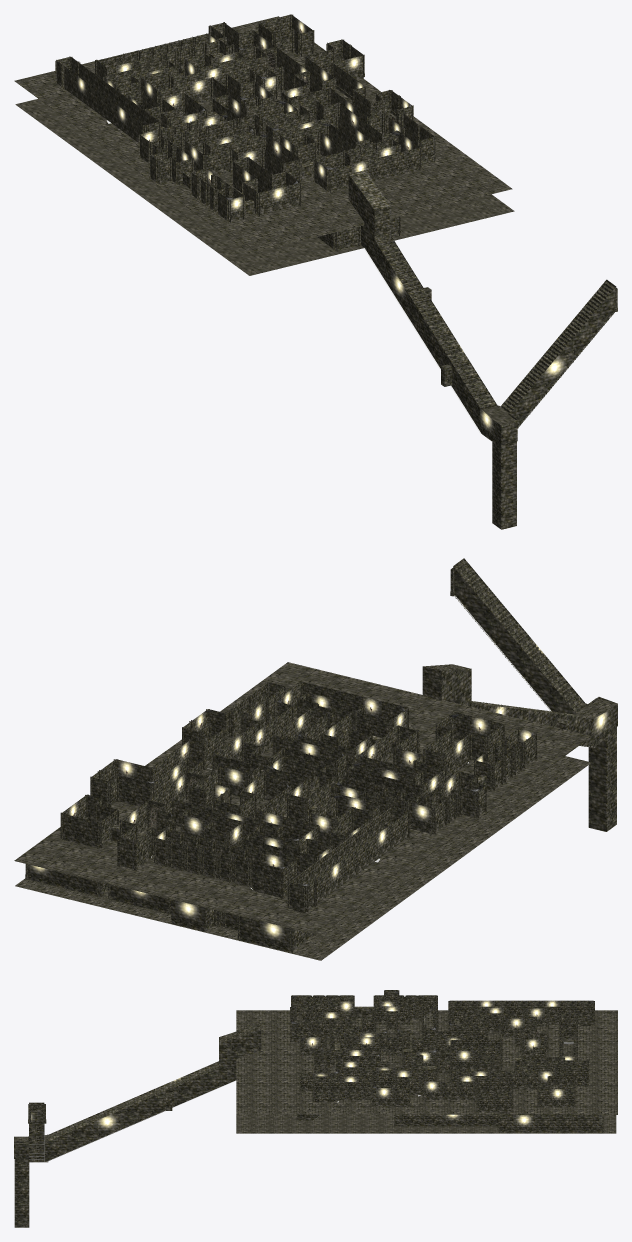
File: FI_002_zennkiseisaku_meiro2_01_46.fbx
The picture shows the model from 3 angles, top to bottom: view 1: azimuth 30°, elevation 25°; view 2: azimuth 150°, elevation 25°; view 3: azimuth 270°, elevation 25°; orthographic projection. The views are drawn at different scales.
Visible parts, largest first — view 1: kabe_2kai, tenjou_1kai, kabe_1kai, yuka_1kai, hasira, tenjou_kaidann, tenjou_kaidann2; view 2: kabe_2kai, tenjou_1kai, kabe_1kai, hasira, yuka_1kai, tenjou_kaidann2, saku; view 3: kabe_2kai, tenjou_1kai, kabe_1kai, yuka_1kai, hasira, tenjou_kaidann, kaidann.
Part boxes in pixels (<box>): kabe_2kai: <box>56,14,434,221</box>; tenjou_1kai: <box>14,16,512,253</box>; kabe_1kai: <box>233,119,616,529</box>; yuka_1kai: <box>15,98,514,275</box>; hasira: <box>55,14,435,250</box>; tenjou_kaidann: <box>375,236,496,409</box>; tenjou_kaidann2: <box>501,282,614,412</box>; kabe_2kai: <box>61,682,535,911</box>; tenjou_1kai: <box>14,662,591,935</box>; kabe_1kai: <box>27,558,617,952</box>; hasira: <box>25,681,537,952</box>; yuka_1kai: <box>15,756,591,960</box>; tenjou_kaidann2: <box>455,561,585,712</box>; saku: <box>146,568,454,827</box>; kabe_2kai: <box>291,990,593,1112</box>; tenjou_1kai: <box>236,1010,617,1114</box>; kabe_1kai: <box>14,1023,602,1227</box>; yuka_1kai: <box>236,1039,616,1133</box>; hasira: <box>290,990,603,1132</box>; tenjou_kaidann: <box>48,1063,218,1140</box>; kaidann: <box>28,1036,573,1162</box>.
Bounding box in the file's own units: 967 × 847 × 2341.
